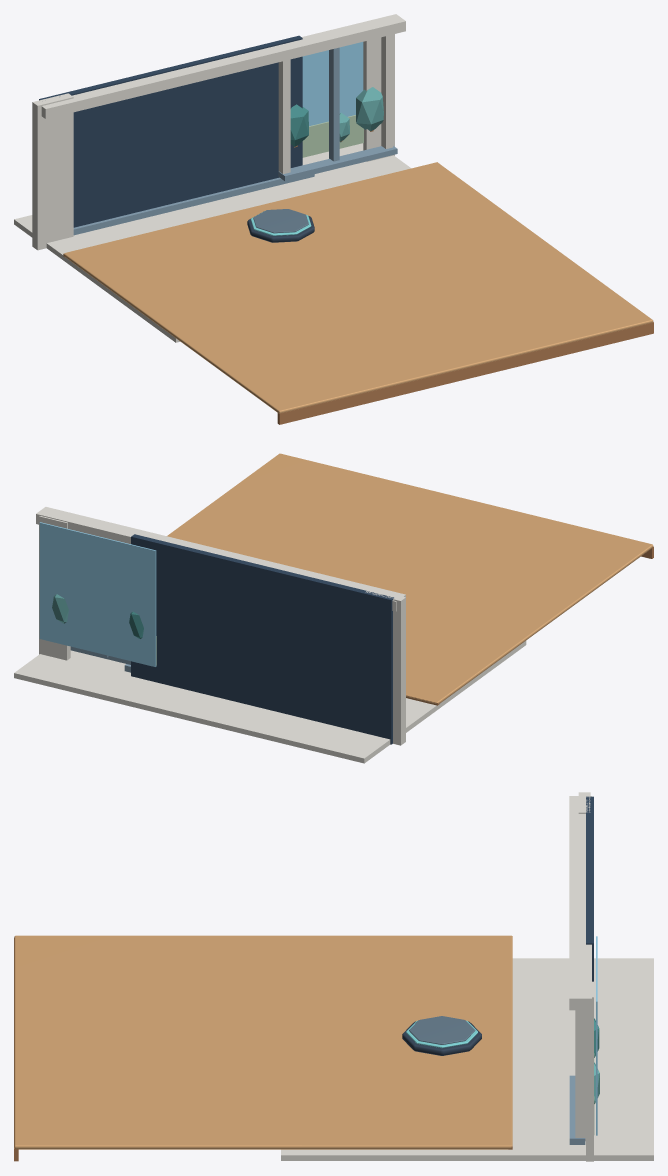
3 views of the same model, one above another, from view 1: azimuth 30°, elevation 25°; view 2: azimuth 150°, elevation 25°; view 3: azimuth 270°, elevation 25° (orthographic). The views are drawn at different scales.
Visible parts, largest first — view 1: room_shell, preview_plinth; view 2: room_shell; view 3: room_shell, preview_plinth.
Part boxes in pixels (bbox=[...]): room_shell: bbox=[14, 14, 653, 424]; preview_plinth: bbox=[247, 209, 314, 242]; room_shell: bbox=[14, 453, 653, 763]; room_shell: bbox=[14, 792, 653, 1161]; preview_plinth: bbox=[402, 1016, 481, 1055].
Bounding box in the file's own units: 18.7 × 6.9 × 24.01.
1 material, 1 textured.
